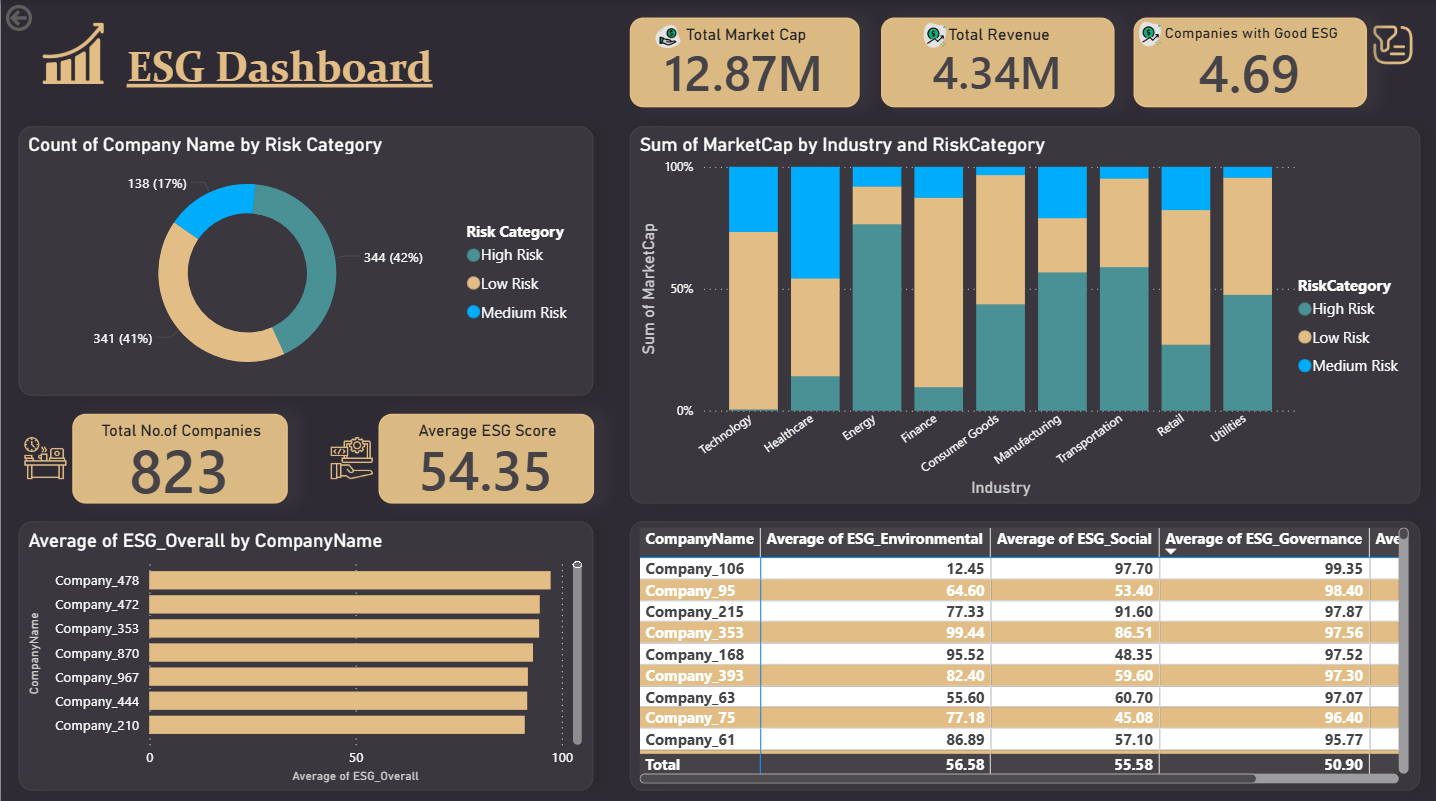

This screenshot's page, from the dashboard's own definition file:
{"tool":"powerbi","page":{"name":"ESG Performance Overview","canvas":[1280,720],"ordinal":0},"visuals":[{"type":"card","title":"Total No.of Companies","fields":{"Values":["CountNonNull(Facts_ESG.CompanyID)"]},"box":[64,368,192,80],"z":0},{"type":"card","title":"Average ESG Score","fields":{"Values":["Facts_ESG.Avg_ESG_Score"]},"box":[336,368,192,80],"z":1000},{"type":"actionButton","box":[0,0,32,32],"z":2000},{"type":"card","title":"Total Market Cap","fields":{"Values":["Facts_ESG.Total_MarketCap"]},"box":[560,16,205,80],"z":3000},{"type":"card","title":"Total Revenue","fields":{"Values":["Facts_ESG.Total_Revenue"]},"box":[784,16,208,80],"z":4000},{"type":"pivotTable","fields":{"Values":["Avg(Facts_ESG.ESG_Environmental)","Avg(Facts_ESG.ESG_Social)","Avg(Facts_ESG.ESG_Governance)","Avg(Facts_ESG.ESG_Overall)"],"Rows":["Facts_ESG.CompanyName"]},"box":[560,464,704,240],"z":5000},{"type":"donutChart","title":"Count of Company Name by Risk Category","fields":{"Category":["Facts_ESG.RiskCategory"],"Y":["CountNonNull(Facts_ESG.CompanyName)"]},"box":[16,112,512,240],"z":6000},{"type":"hundredPercentStackedColumnChart","fields":{"Category":["Facts_ESG.Industry"],"Series":["Facts_ESG.RiskCategory"],"Y":["Sum(Facts_ESG.MarketCap)"]},"box":[560,112,704,336],"z":7000},{"type":"clusteredBarChart","fields":{"Category":["Facts_ESG.CompanyName"],"Y":["Avg(Facts_ESG.ESG_Overall)"]},"box":[16,464,512,240],"z":8000},{"type":"image","box":[32,16,64,64],"z":9000},{"type":"image","box":[1216,0,48,80],"z":10000},{"type":"textbox","box":[80,32,336,64],"z":11000},{"type":"image","box":[16,384,48,48],"z":12000},{"type":"image","box":[288,384,48,48],"z":13000},{"type":"image","box":[816,16,32,32],"z":14000},{"type":"card","title":"  Companies with Good ESG","fields":{"Values":["Facts_ESG.% Companies Above 70"]},"box":[1008,16,208,80],"z":15000},{"type":"image","box":[570,17,48,32],"z":16000},{"type":"image","box":[832,14,384,32],"z":17000}]}

Visuals, with their boxes in screenshot pixels (x1, y1, x2, y2), scaled from the page's 1280x720 canvas onto the 1436x801 screenshot:
"Total No.of Companies" card: {"x1": 72, "y1": 409, "x2": 287, "y2": 498}
"Average ESG Score" card: {"x1": 377, "y1": 409, "x2": 592, "y2": 498}
actionButton: {"x1": 0, "y1": 0, "x2": 36, "y2": 36}
"Total Market Cap" card: {"x1": 628, "y1": 18, "x2": 858, "y2": 107}
"Total Revenue" card: {"x1": 880, "y1": 18, "x2": 1113, "y2": 107}
pivotTable - Avg(Facts_ESG.ESG_Environmental) x Avg(Facts_ESG.ESG_Social): {"x1": 628, "y1": 516, "x2": 1418, "y2": 783}
"Count of Company Name by Risk Category" donutChart: {"x1": 18, "y1": 125, "x2": 592, "y2": 392}
hundredPercentStackedColumnChart - Facts_ESG.Industry x Facts_ESG.RiskCategory: {"x1": 628, "y1": 125, "x2": 1418, "y2": 498}
clusteredBarChart - Facts_ESG.CompanyName x Avg(Facts_ESG.ESG_Overall): {"x1": 18, "y1": 516, "x2": 592, "y2": 783}
image: {"x1": 36, "y1": 18, "x2": 108, "y2": 89}
image: {"x1": 1364, "y1": 0, "x2": 1418, "y2": 89}
textbox: {"x1": 90, "y1": 36, "x2": 467, "y2": 107}
image: {"x1": 18, "y1": 427, "x2": 72, "y2": 481}
image: {"x1": 323, "y1": 427, "x2": 377, "y2": 481}
image: {"x1": 915, "y1": 18, "x2": 951, "y2": 53}
"  Companies with Good ESG" card: {"x1": 1131, "y1": 18, "x2": 1364, "y2": 107}
image: {"x1": 639, "y1": 19, "x2": 693, "y2": 55}
image: {"x1": 933, "y1": 16, "x2": 1364, "y2": 51}
